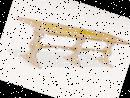Mesa: (2, 3, 129, 93)
